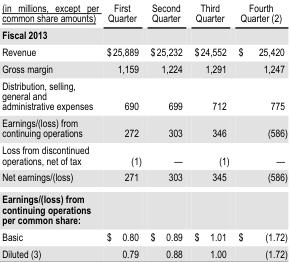table: (1, 1, 286, 258)
table column: (1, 1, 101, 258), (233, 1, 286, 258), (187, 1, 233, 258), (101, 1, 145, 258), (145, 1, 187, 258)
table column header: (1, 1, 286, 26)
table projected row header: (1, 187, 286, 227), (1, 26, 286, 42)
table row: (1, 187, 286, 227), (1, 76, 286, 114), (1, 114, 286, 141), (1, 141, 286, 168), (1, 1, 286, 26), (1, 168, 286, 187), (1, 42, 286, 59), (1, 59, 286, 76), (1, 227, 286, 244), (1, 26, 286, 42), (1, 244, 286, 258)
